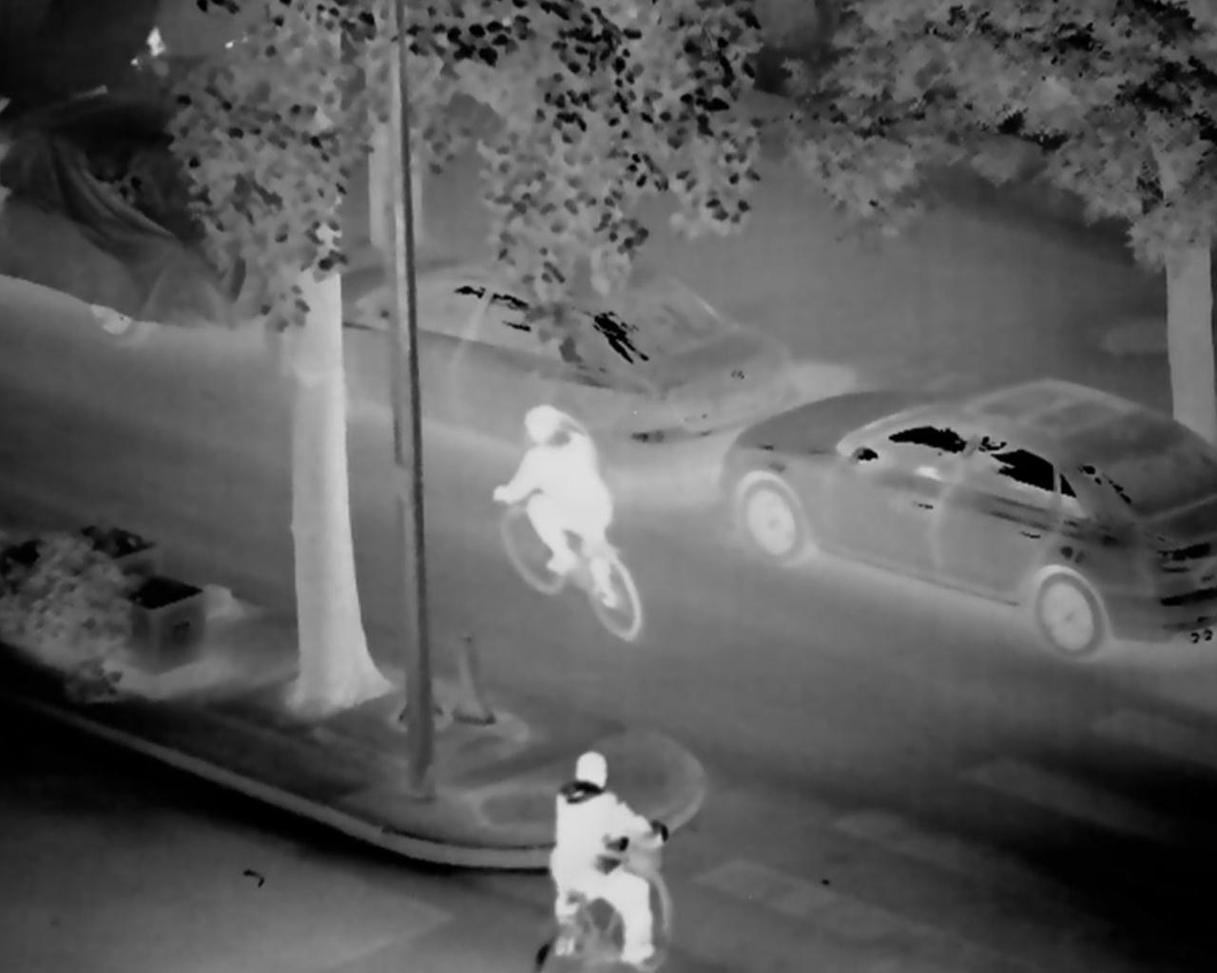person: (477, 401, 632, 601), (537, 742, 663, 966)
